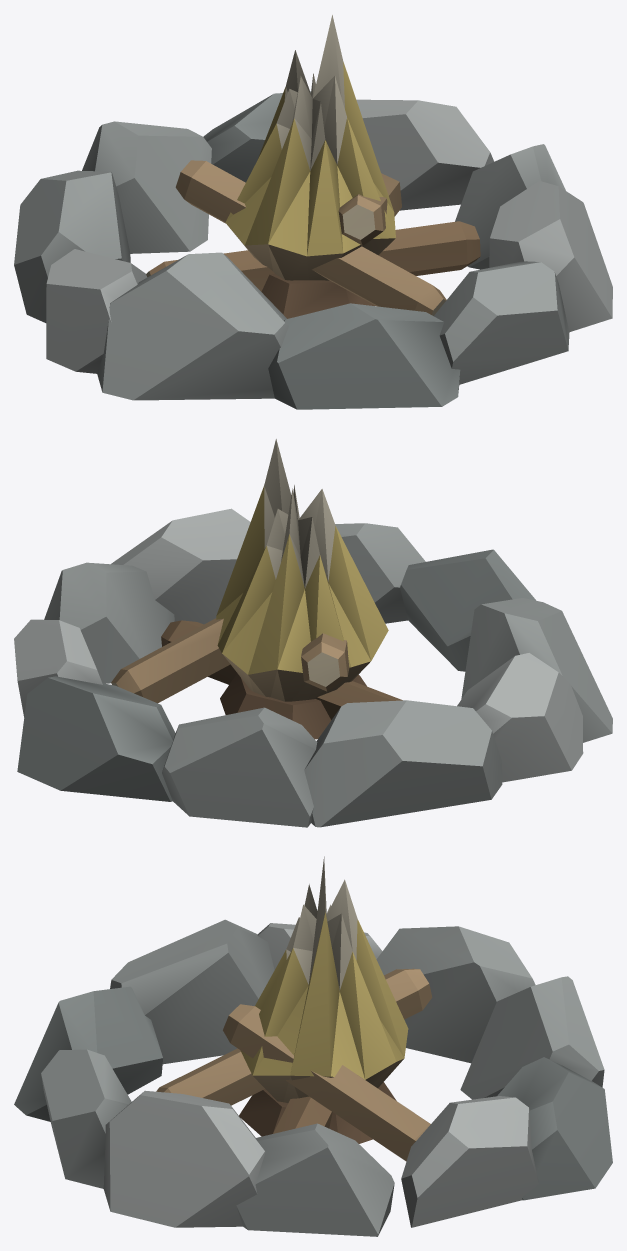
File: campfire.glb
3 views of the same model, one above another, from view 1: azimuth 30°, elevation 25°; view 2: azimuth 150°, elevation 25°; view 3: azimuth 270°, elevation 25° (orthographic).
Visible parts, largest first — view 1: campfire.001; view 2: campfire.001; view 3: campfire.001.
Boxes of the visible parts, <box> form: campfire.001: <box>14,15,612,409</box>; campfire.001: <box>14,439,612,827</box>; campfire.001: <box>14,856,612,1236</box>.
Bounding box in the file's own units: 1.05 × 0.52 × 1.04.
